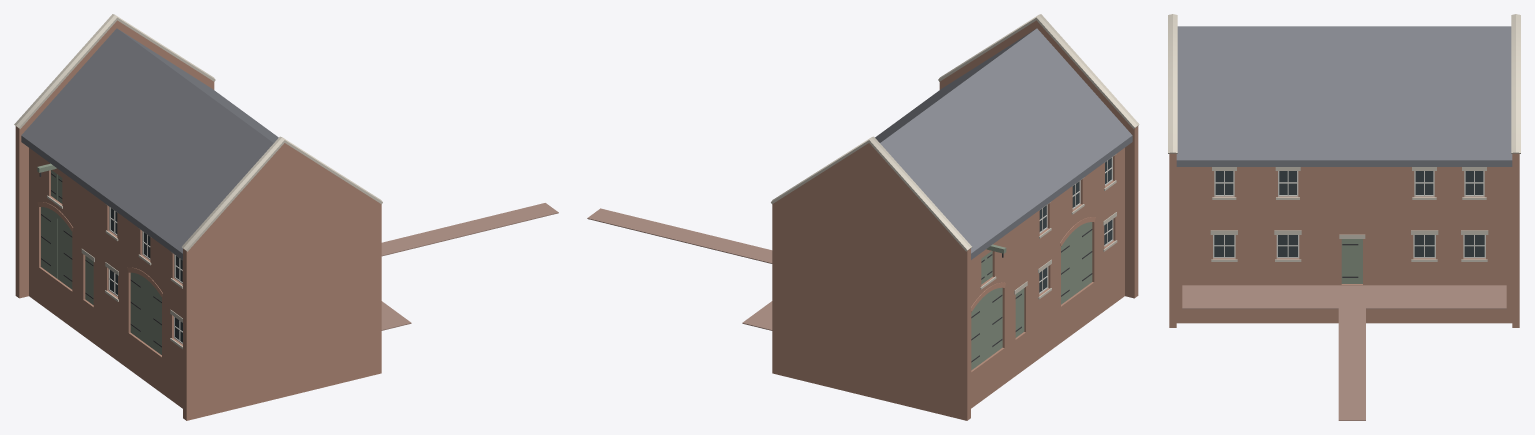
File: elbridge_keith_house_1900_prairie_coach_house__as_standing_1904.glb
The picture shows the model from 3 angles, left to right: view 1: azimuth 30°, elevation 25°; view 2: azimuth 150°, elevation 25°; view 3: azimuth 270°, elevation 25°; orthographic projection. The views are drawn at different scales.
Parts seen in each view (by area): view 1: elbridge_keith_house_1900_prairie_coach_house__as_standing_1; view 2: elbridge_keith_house_1900_prairie_coach_house__as_standing_1; view 3: elbridge_keith_house_1900_prairie_coach_house__as_standing_1.
Part boxes in pixels (box(x1,y1,x2,y2)): elbridge_keith_house_1900_prairie_coach_house__as_standing_1: box(14, 14, 558, 420); elbridge_keith_house_1900_prairie_coach_house__as_standing_1: box(587, 14, 1139, 420); elbridge_keith_house_1900_prairie_coach_house__as_standing_1: box(1168, 14, 1520, 420).
Size of the model in its own units: 24.09 by 12.87 by 15.52.
